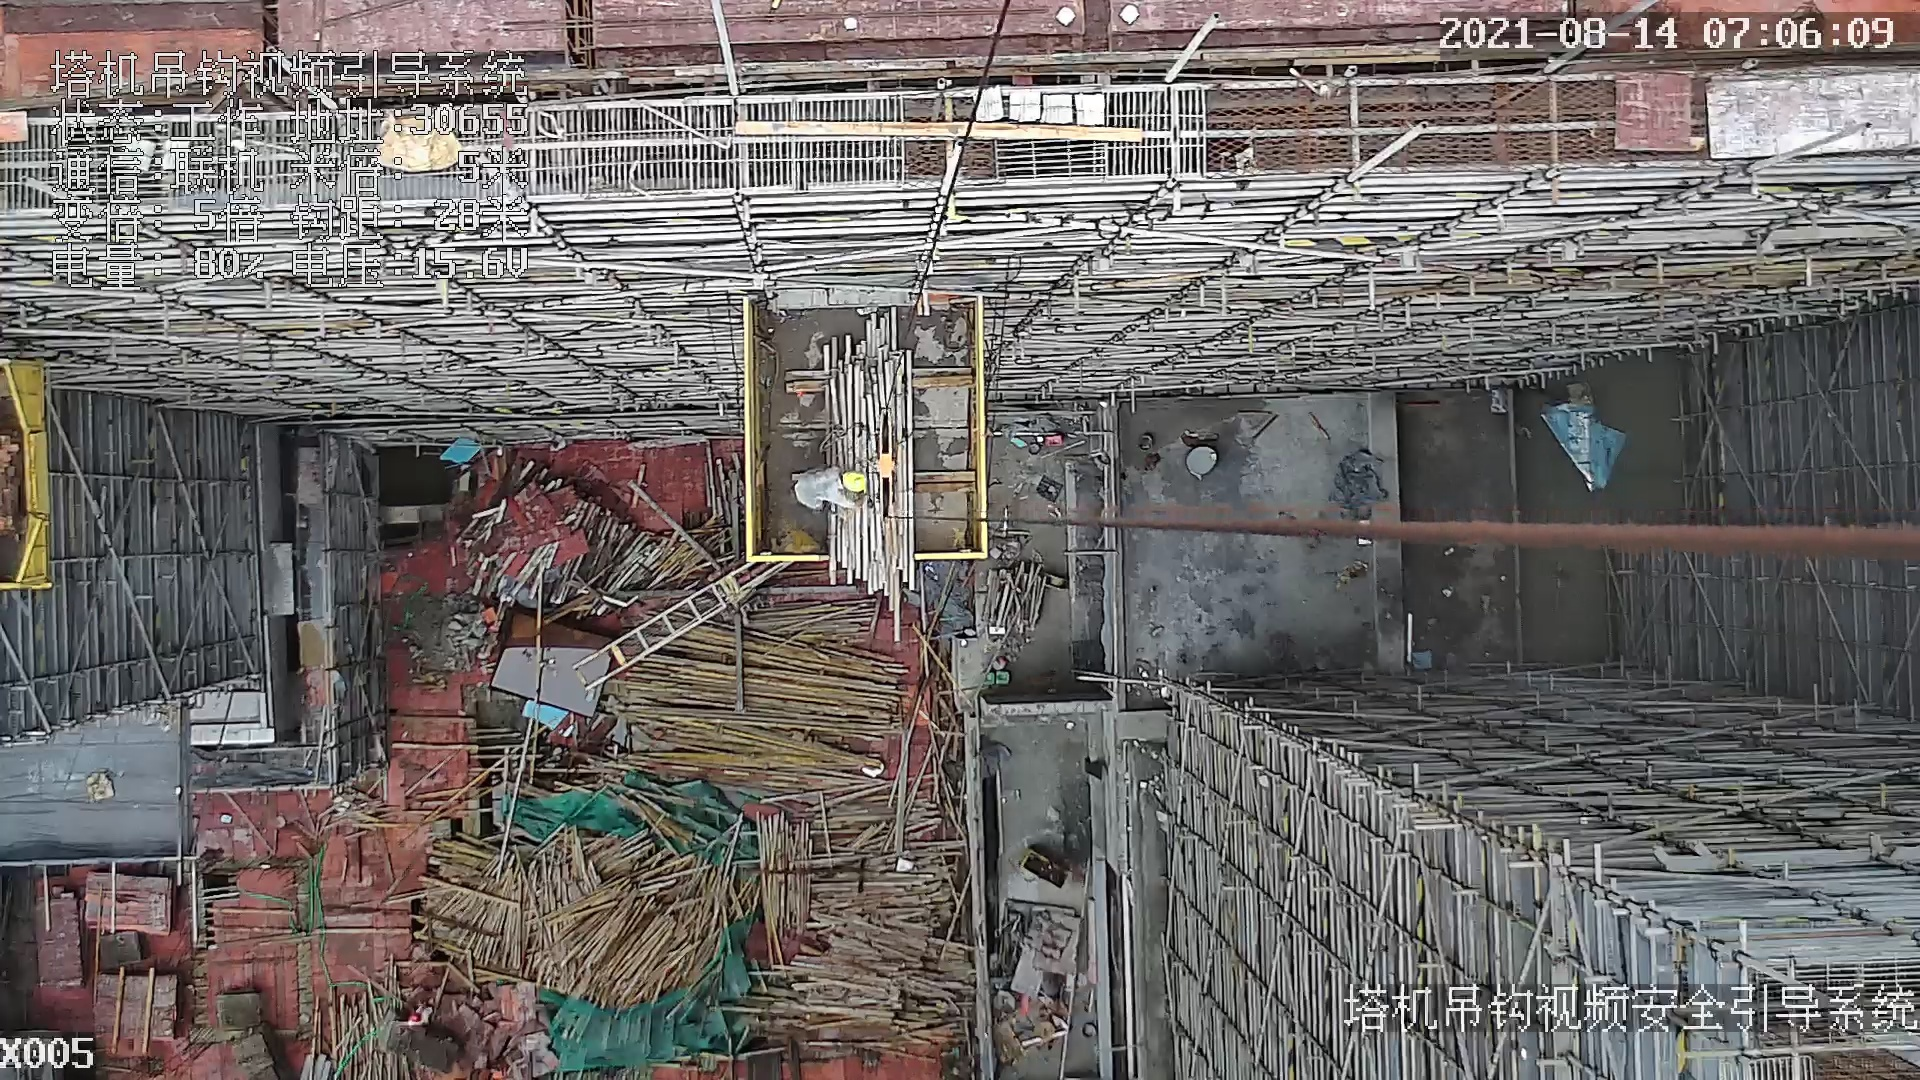helmet: (842, 470, 869, 493)
hook: (870, 404, 910, 524)
person: (794, 465, 883, 514)
